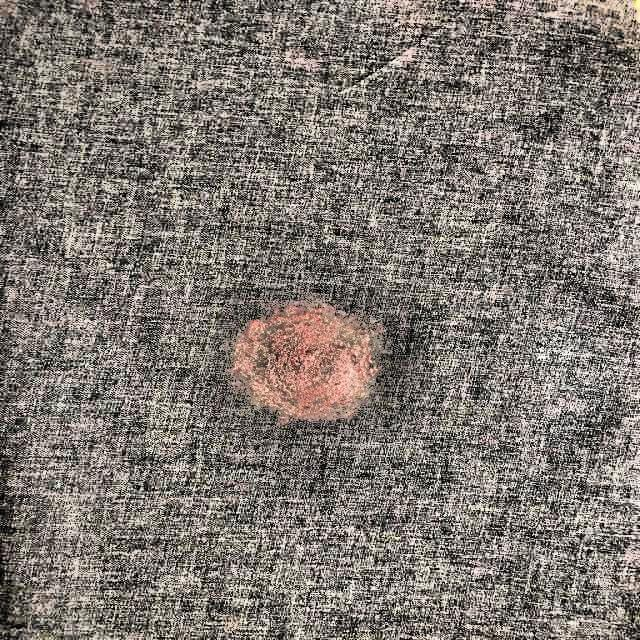Hole: (165, 244, 473, 514)
